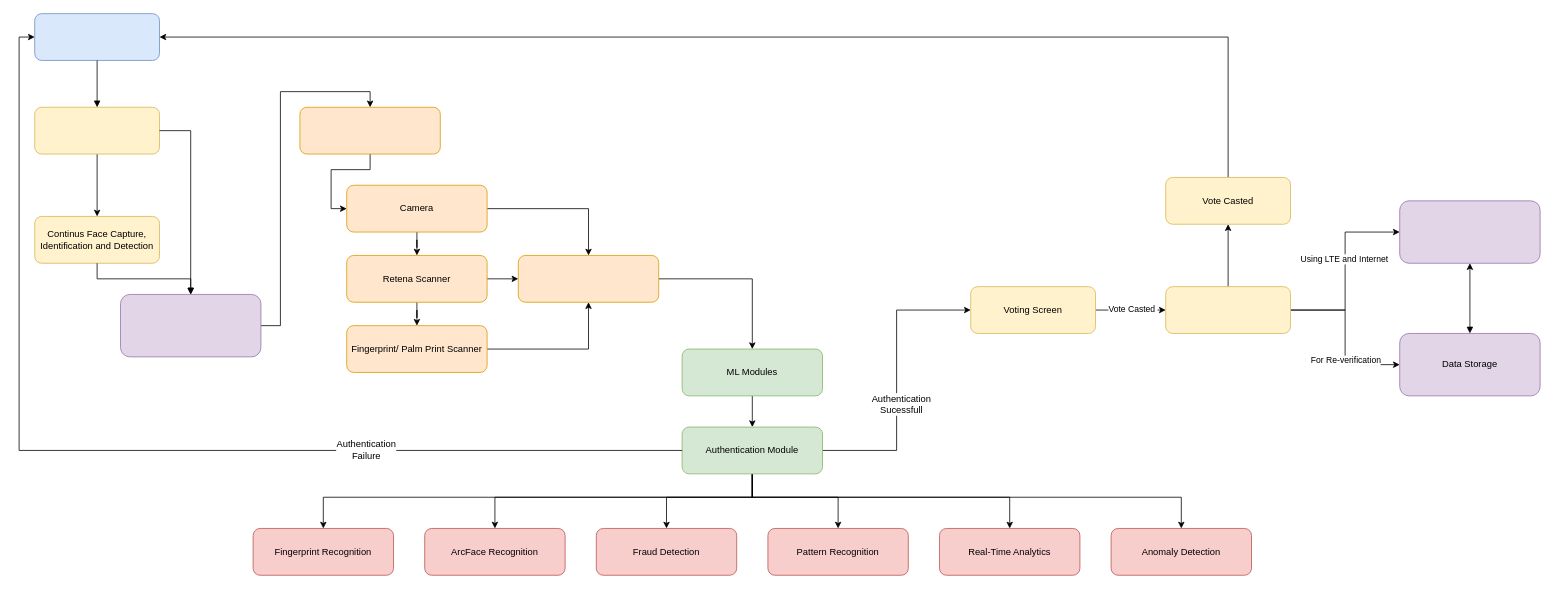
This 1554x589 diagram has some shape labels left out. The shapes that lost their labels are listed below. From the top down, each one's centre as x and y in pixels, then its label:
the point at 97,36: UI (PyQt5)
the point at 97,130: Aadhaar Entry
the point at 369,130: Biometric Device
the point at 1469,231: Blockchain
the point at 588,278: Image captutre
the point at 190,325: Gated Data and Process Entry
the point at 1228,309: Data Communication Protocols and Data tranfer
